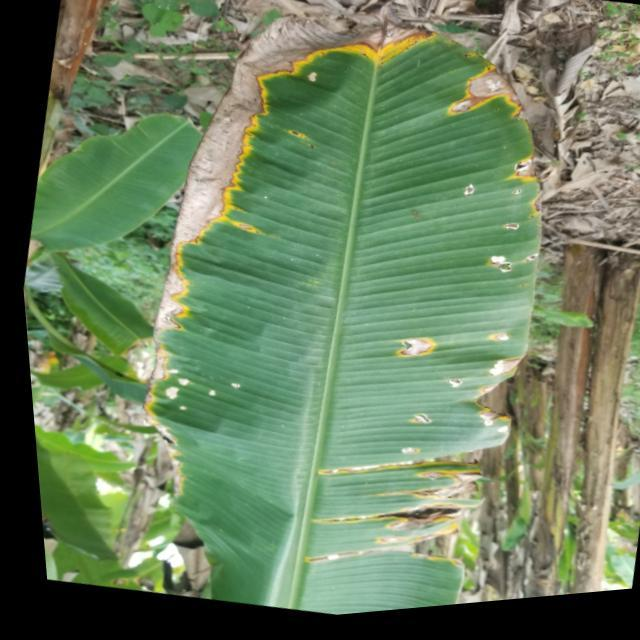Early_rust: (124, 25, 526, 581), (24, 318, 78, 398)
